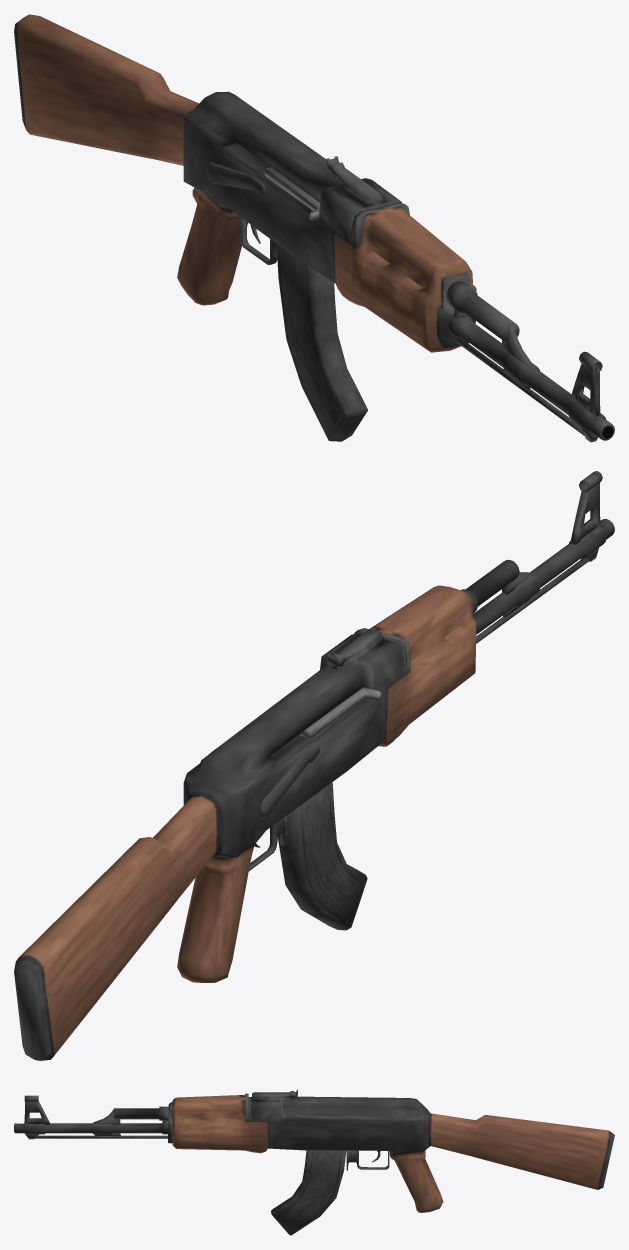
The picture shows the model from 3 angles, top to bottom: view 1: azimuth 30°, elevation 25°; view 2: azimuth 150°, elevation 25°; view 3: azimuth 270°, elevation 25°; orthographic projection. The views are drawn at different scales.
Visible parts, largest first — view 1: AK-47, AK-47Magazine, AK-47Slide; view 2: AK-47, AK-47Magazine, AK-47Slide; view 3: AK-47, AK-47Magazine.
Boxes of the visible parts, x1,y1,x2,y2 form: AK-47: [14, 14, 614, 442]; AK-47Magazine: [276, 244, 367, 441]; AK-47Slide: [264, 167, 320, 220]; AK-47: [14, 471, 614, 1060]; AK-47Magazine: [278, 782, 367, 930]; AK-47Slide: [300, 687, 381, 738]; AK-47: [14, 1089, 614, 1212]; AK-47Magazine: [271, 1150, 346, 1235].
Bounding box in the file's own units: 5.4 × 23.17 × 88.
